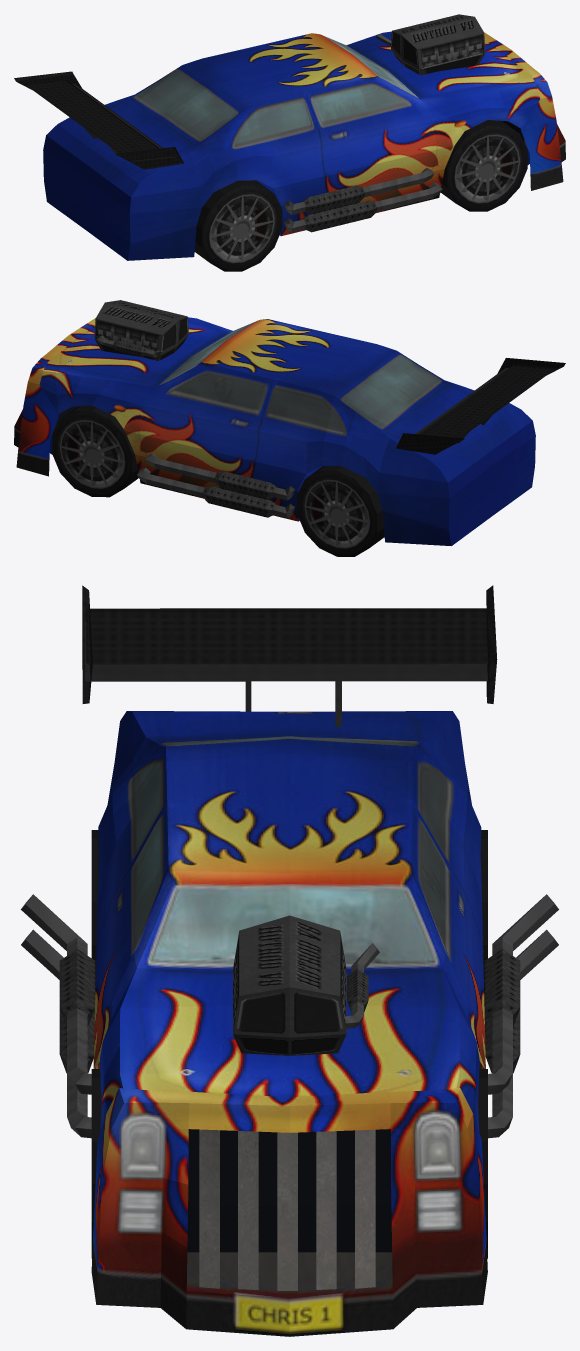
Rendered from hotrod.dae.
3 renders of one model, top to bottom at view 1: azimuth 30°, elevation 25°; view 2: azimuth 150°, elevation 25°; view 3: azimuth 270°, elevation 25°, orthographic. The views are drawn at different scales.
Visible parts, largest first — view 1: polySurface25, polySurface29, polySurface49, polySurface62, polySurface50, polySurface51; view 2: polySurface25, polySurface29, polySurface49, polySurface62, polySurface52, polySurface53, polySurface59; view 3: polySurface25, polySurface49, polySurface62, polySurface53, polySurface51, polySurface29, polySurface52, polySurface50, polySurface59.
Part boxes in pixels (x1,y1,x2,y2): polySurface25: (43, 31, 565, 260); polySurface29: (194, 120, 527, 271); polySurface49: (14, 71, 183, 169); polySurface62: (391, 14, 485, 75); polySurface50: (284, 182, 442, 232); polySurface51: (284, 167, 434, 214); polySurface25: (14, 317, 535, 545); polySurface29: (52, 405, 384, 556); polySurface49: (396, 358, 565, 454); polySurface62: (94, 300, 188, 360); polySurface52: (137, 467, 295, 518); polySurface53: (145, 453, 294, 500); polySurface59: (97, 335, 160, 357); polySurface25: (91, 711, 487, 1336); polySurface49: (82, 585, 497, 726); polySurface62: (233, 915, 346, 1055); polySurface53: (484, 894, 558, 1094); polySurface51: (21, 894, 95, 1094); polySurface29: (91, 830, 487, 1258); polySurface52: (484, 929, 558, 1138); polySurface50: (21, 929, 94, 1138); polySurface59: (345, 943, 379, 1028).
Bounding box in the file's own units: 27.1 × 13.11 × 8.09.
